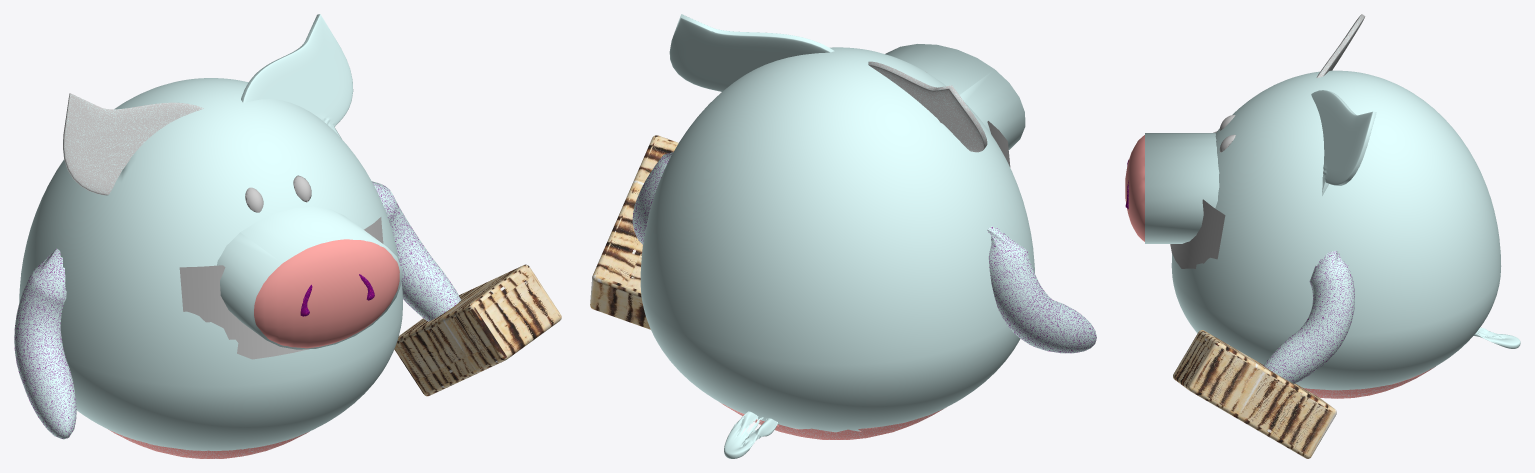
File: brown_pig_straw.dae
The picture shows the model from 3 angles, left to right: view 1: azimuth 30°, elevation 25°; view 2: azimuth 150°, elevation 25°; view 3: azimuth 270°, elevation 25°; orthographic projection. The views are drawn at different scales.
Visible parts, largest first — view 1: group_0 (×10), skpDF37, group_1; view 2: group_0 (×8), group_1 (×2), skpDF37; view 3: group_0 (×9), skpDF37, group_1.
Boxes of the visible parts, x1=… form: group_0 (×10): x1=14, y1=78, x2=460, y2=458; skpDF37: x1=394, y1=264, x2=561, y2=396; group_1: x1=241, y1=14, x2=353, y2=138; group_0 (×8): x1=632, y1=44, x2=1096, y2=458; group_1 (×2): x1=669, y1=14, x2=834, y2=91; skpDF37: x1=590, y1=135, x2=678, y2=329; group_0 (×9): x1=1125, y1=14, x2=1520, y2=398; skpDF37: x1=1173, y1=330, x2=1336, y2=458; group_1: x1=1311, y1=90, x2=1376, y2=195.
Bounding box in the file's own units: 38.98 × 32.78 × 29.86.
